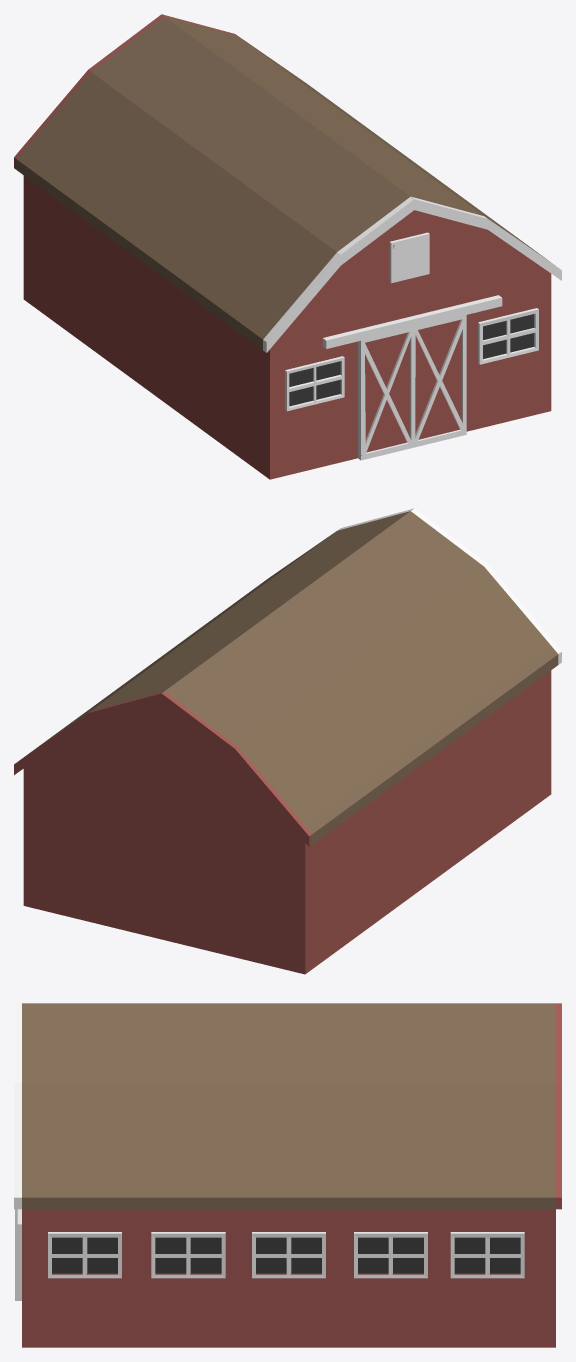
The model's file is Barn.fbx.
The picture shows the model from 3 angles, top to bottom: view 1: azimuth 30°, elevation 25°; view 2: azimuth 150°, elevation 25°; view 3: azimuth 270°, elevation 25°; orthographic projection. The views are drawn at different scales.
Visible parts, largest first — view 1: Cube; view 2: Cube; view 3: Cube.
Boxes of the visible parts, x1,y1,x2,y2 form: Cube: (14, 14, 561, 479); Cube: (14, 508, 561, 974); Cube: (14, 1003, 561, 1347).
Bounding box in the file's own units: 382 × 308 × 567.
